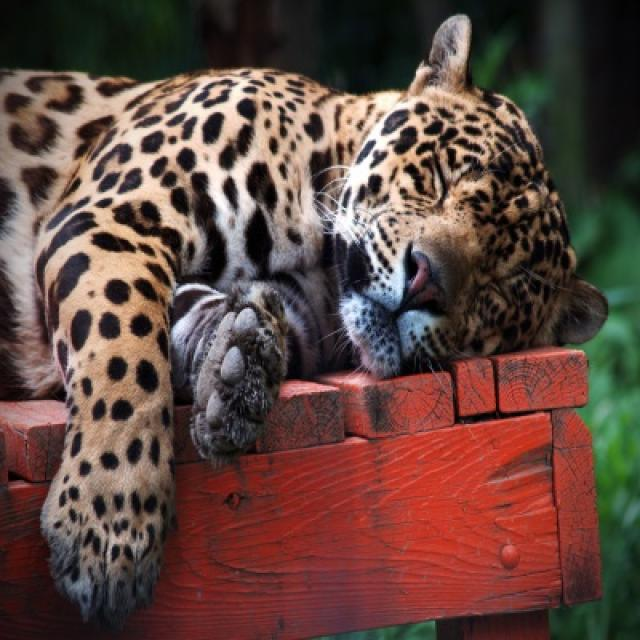Jaguar: (0, 14, 610, 629)
